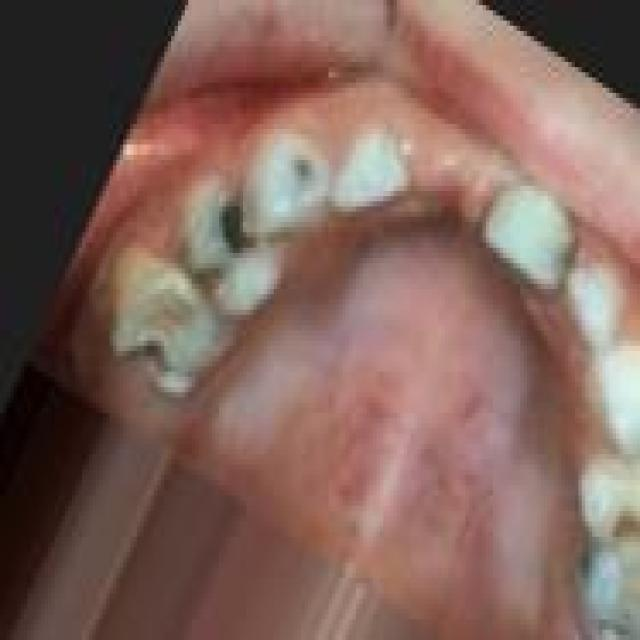caries: (118, 309, 180, 401), (210, 192, 261, 268), (599, 485, 640, 558), (282, 142, 328, 206), (188, 248, 237, 308)
